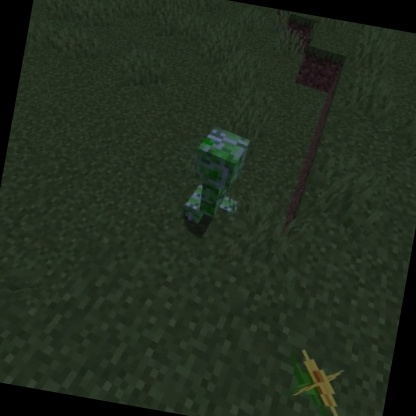creeper: (179, 120, 255, 234)
